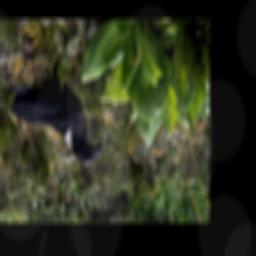Crow: (10, 56, 105, 168)
